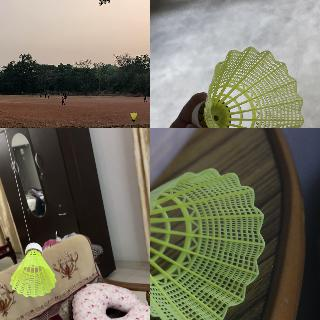shuttlecock: (150, 167, 265, 319), (192, 45, 305, 127), (10, 242, 56, 298), (130, 112, 136, 121)
